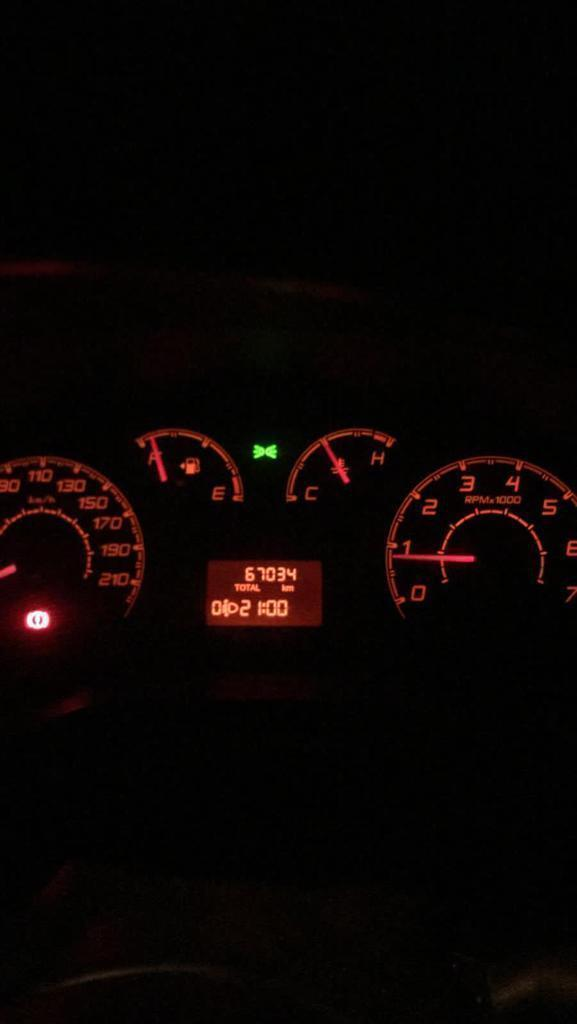0: (276, 598, 289, 617), (266, 598, 276, 618), (211, 598, 221, 618), (266, 565, 275, 582)
1: (256, 599, 261, 617)
2: (239, 598, 250, 617)
3: (277, 566, 286, 582)
4: (286, 566, 296, 581)
6: (244, 565, 255, 582)
7: (257, 566, 265, 581)
X: (287, 584, 294, 592), (262, 601, 266, 615), (255, 583, 261, 592), (281, 583, 287, 592), (233, 583, 239, 592), (240, 583, 246, 591), (250, 583, 255, 592), (246, 583, 250, 591)
odometer: (206, 558, 322, 627)
